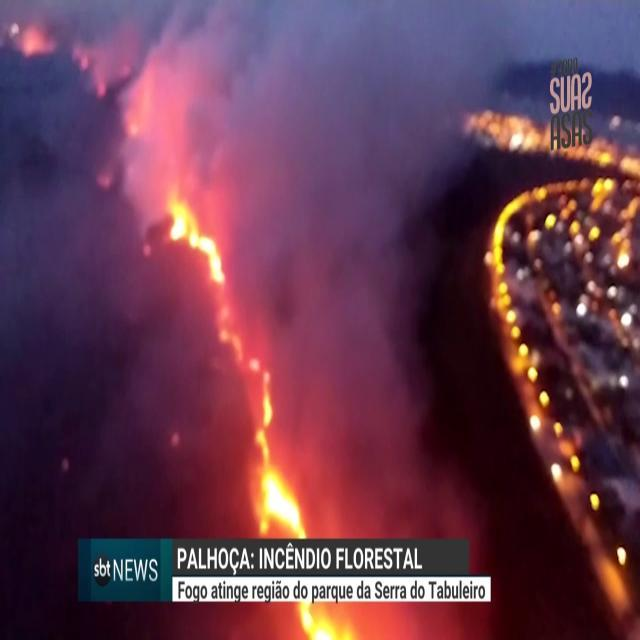Fire: (169, 186, 233, 294), (256, 434, 307, 532)
